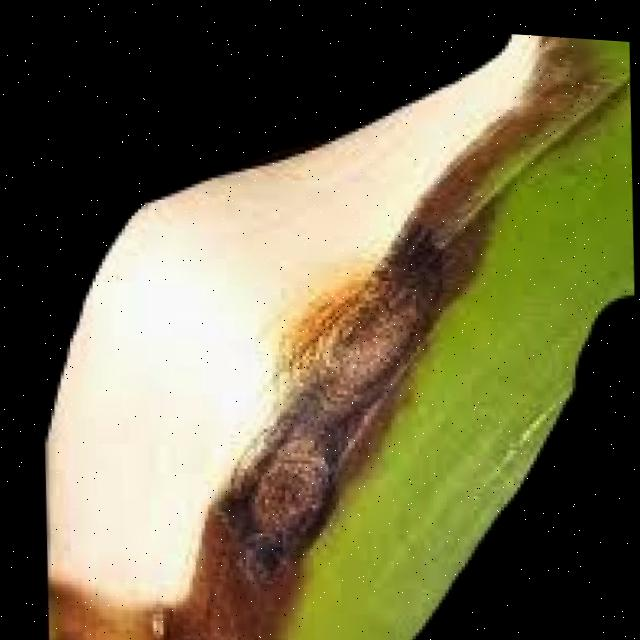mite: (389, 277, 636, 640), (212, 490, 288, 586), (237, 528, 285, 586), (144, 603, 172, 640), (0, 240, 2, 304)
